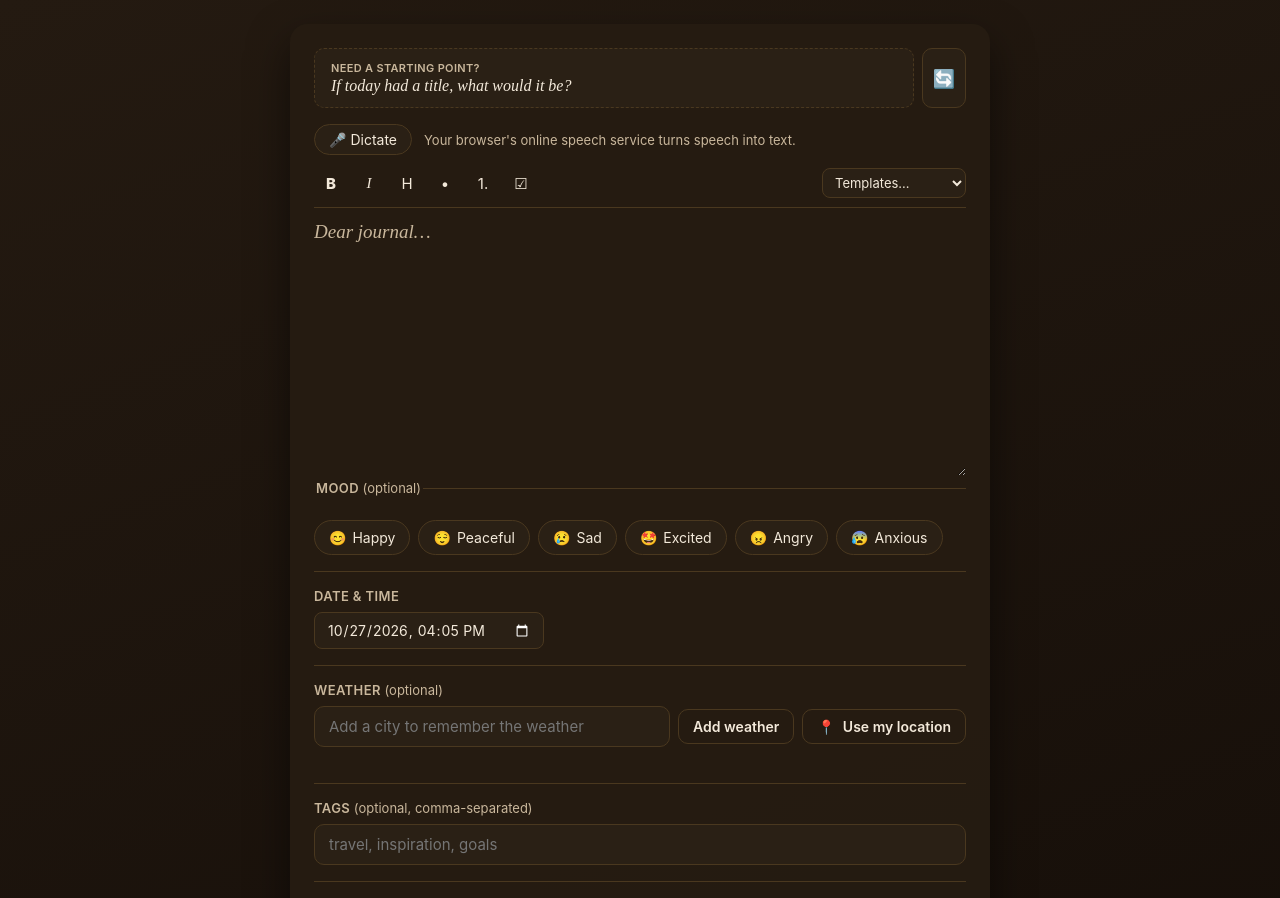
it: Dictation › explains a blocked microphone
What coordinates should you click on to do the following:
click the button "🎤 Dictate"
I would click on:
 (363, 140)
Its box is [314, 124, 412, 155].
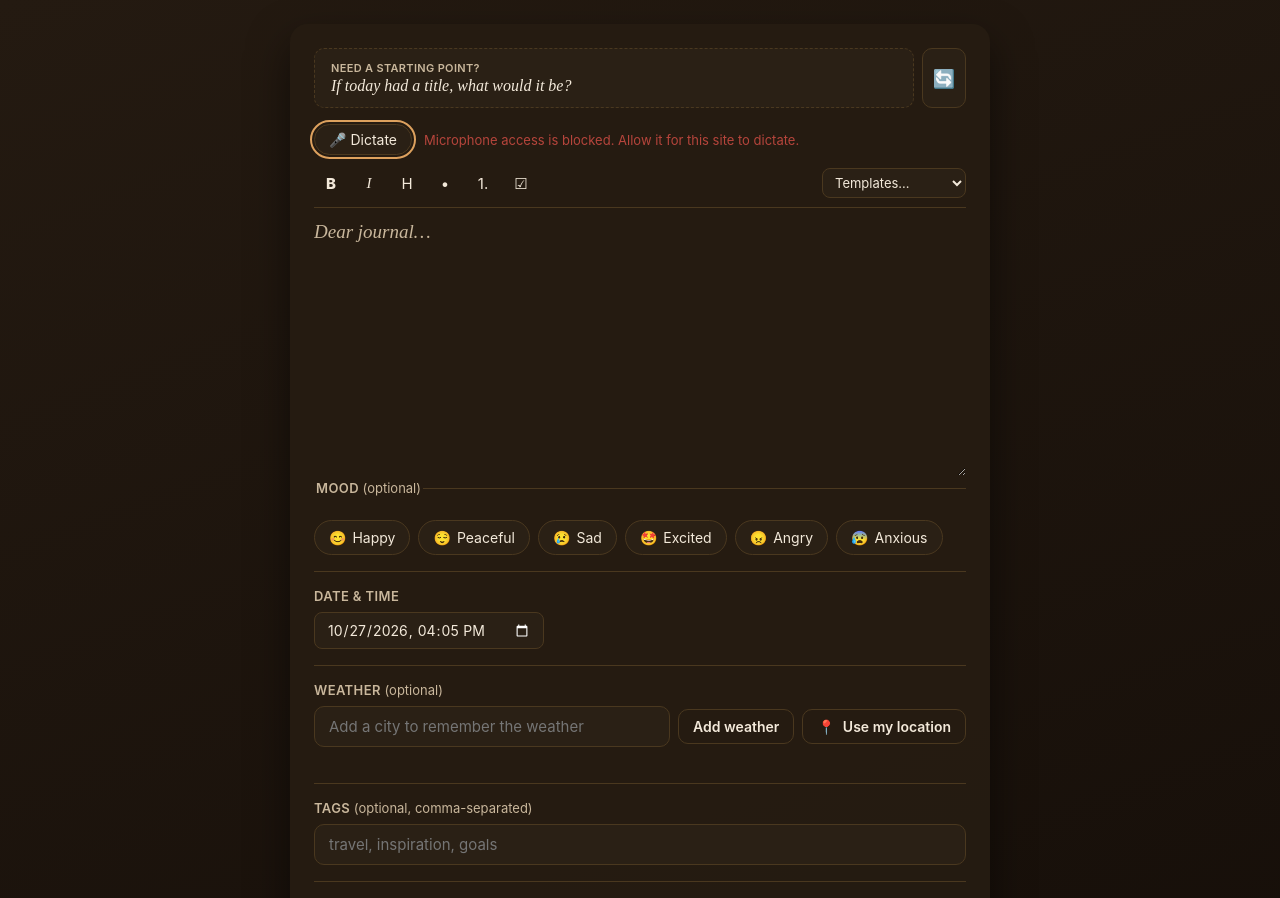
Now the message shows "Microphone access is blocked", box [424, 132, 799, 148]
